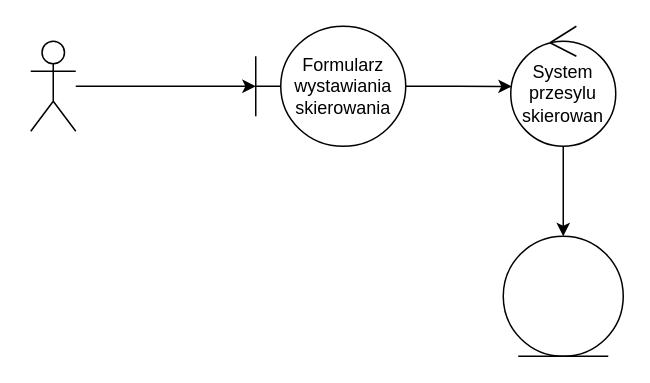
Some shapes in this 650 by 383 pixel diagram are drawn without their labels. The shapes that lost their labels are listed below. From the top down, each one's box as (x1, y1, x2, y2) in pixels, then its label:
(29, 40, 76, 131): Lekarz
(502, 235, 623, 356): Krajowa Baza danych skierowan
